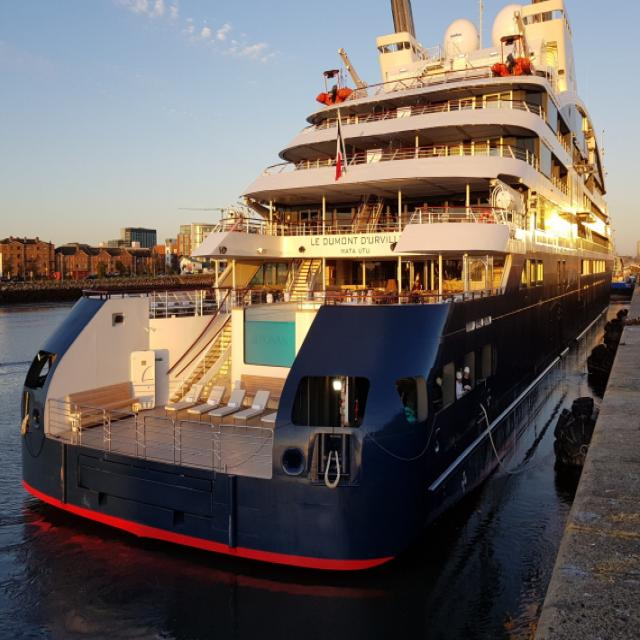cruises: (13, 1, 618, 601)
